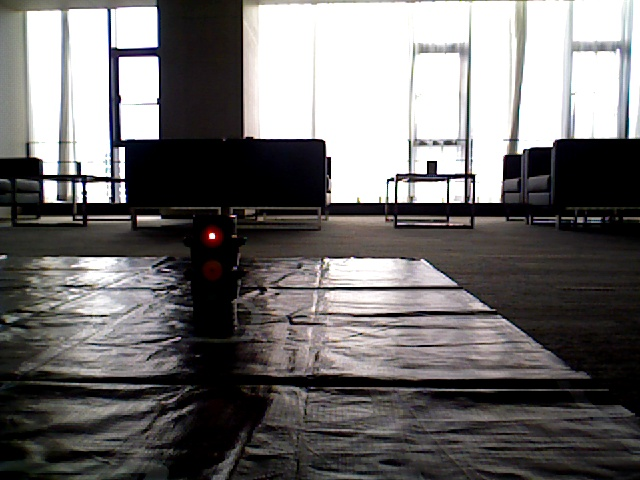red: (189, 212, 236, 329)
